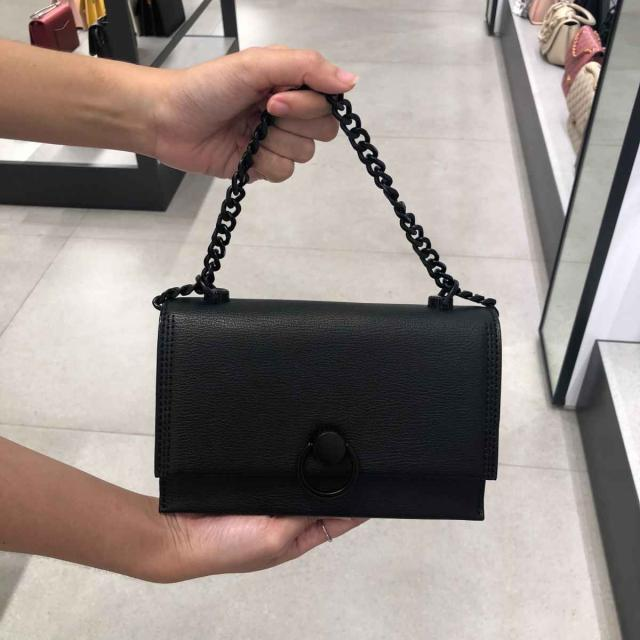Handbag: (155, 294, 502, 521)
